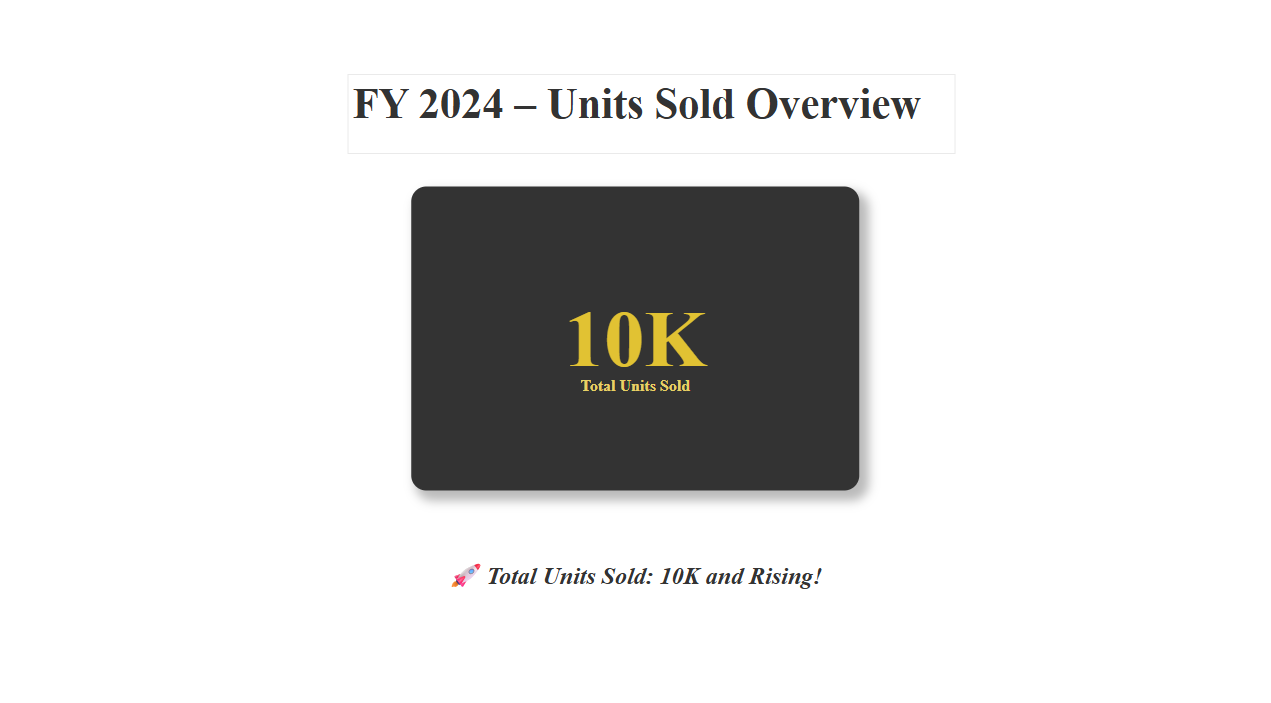

The page's visual inventory and layout, read from the dashboard file:
{"tool":"powerbi","page":{"name":"Page 3","canvas":[1280,720],"ordinal":2},"visuals":[{"type":"card","fields":{"Values":["Sheet1.Total Units Sold"]},"box":[416,192,448,304],"z":0},{"type":"textbox","box":[448,560,400,64],"z":1000},{"type":"textbox","box":[352,80,608,80],"z":2000}]}

Visuals, with their boxes in screenshot pixels (x1, y1, x2, y2), scaled from the page's 1280x720 canvas onto the 1271x703 screenshot:
card - Sheet1.Total Units Sold: pyautogui.locateOnScreen(413, 187, 858, 484)
textbox: pyautogui.locateOnScreen(445, 547, 842, 609)
textbox: pyautogui.locateOnScreen(350, 78, 953, 156)
